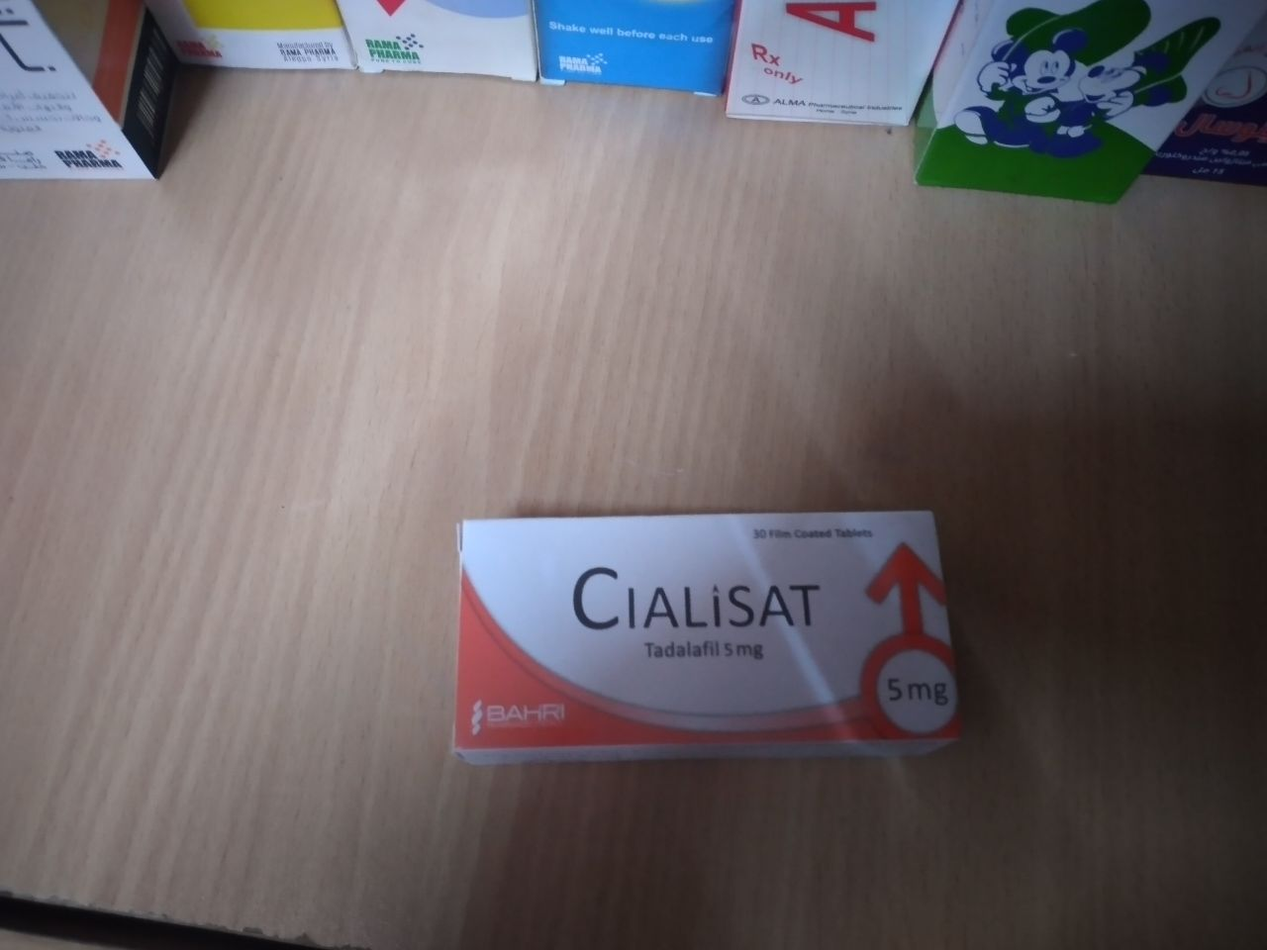Medicine: (438, 497, 980, 782), (928, 0, 1250, 220), (0, 0, 198, 210), (715, 2, 970, 129), (517, 0, 723, 106), (346, 0, 542, 101), (151, 0, 369, 79)
